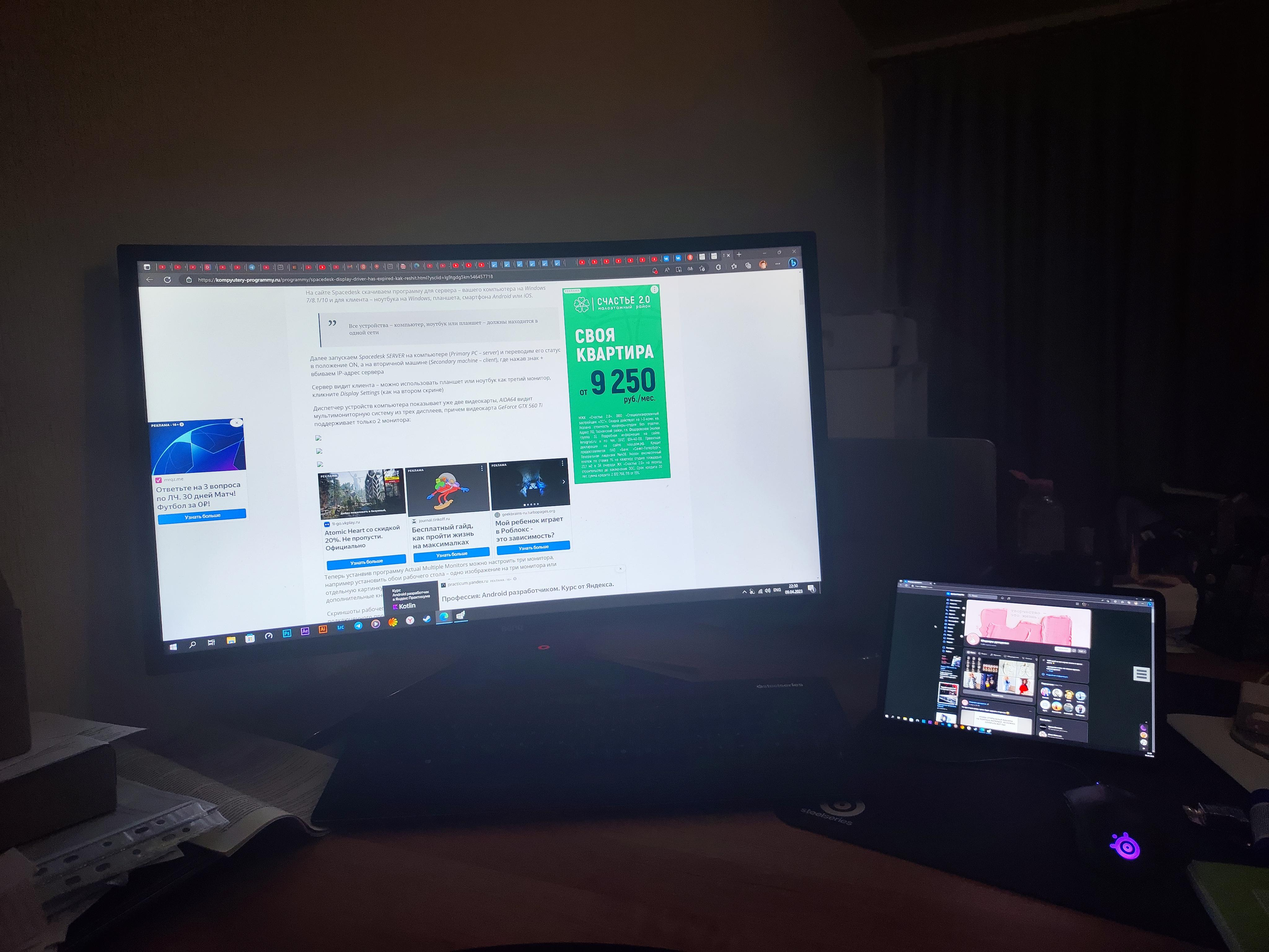monitor: (115, 223, 840, 685), (864, 566, 1179, 769)
